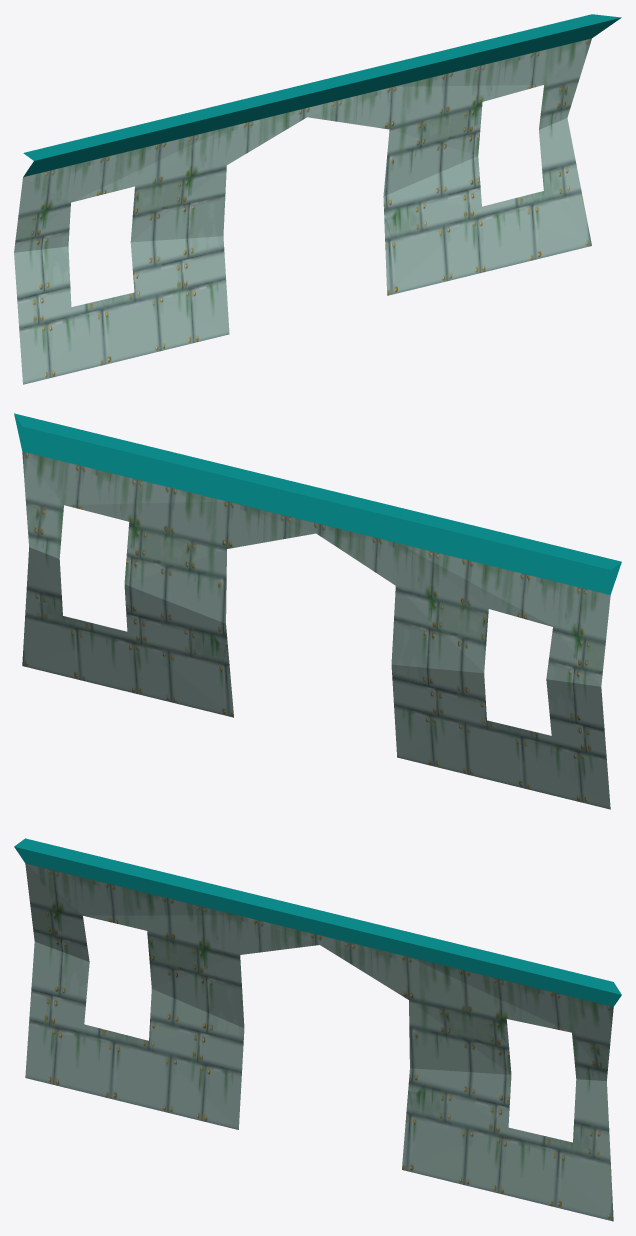
Rendered from W_A2r_fOf [Türkis]_1929.glb.
3 renders of one model, top to bottom at view 1: azimuth 30°, elevation 25°; view 2: azimuth 150°, elevation 25°; view 3: azimuth 330°, elevation 25°, orthographic. The views are drawn at different scales.
Visible parts, largest first — view 1: polySurfaceShape729, polySurfaceShape1060; view 2: polySurfaceShape729, polySurfaceShape1060; view 3: polySurfaceShape729, polySurfaceShape1060.
Part boxes in pixels (x1,y1,x2,y2): polySurfaceShape729: (14, 38, 591, 384); polySurfaceShape1060: (23, 14, 621, 176); polySurfaceShape729: (22, 451, 610, 809); polySurfaceShape1060: (14, 413, 621, 594); polySurfaceShape729: (25, 863, 613, 1221); polySurfaceShape1060: (14, 838, 621, 1006).
Size of the model in its own units: 1.03 by 0.3891 by 0.0607.
Materials: 2 (1 with a texture image).
